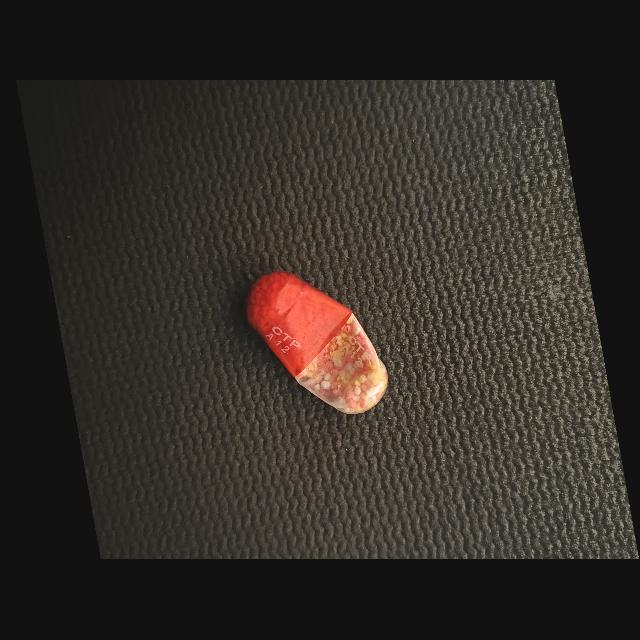Defective Capsule: (246, 271, 388, 415)
